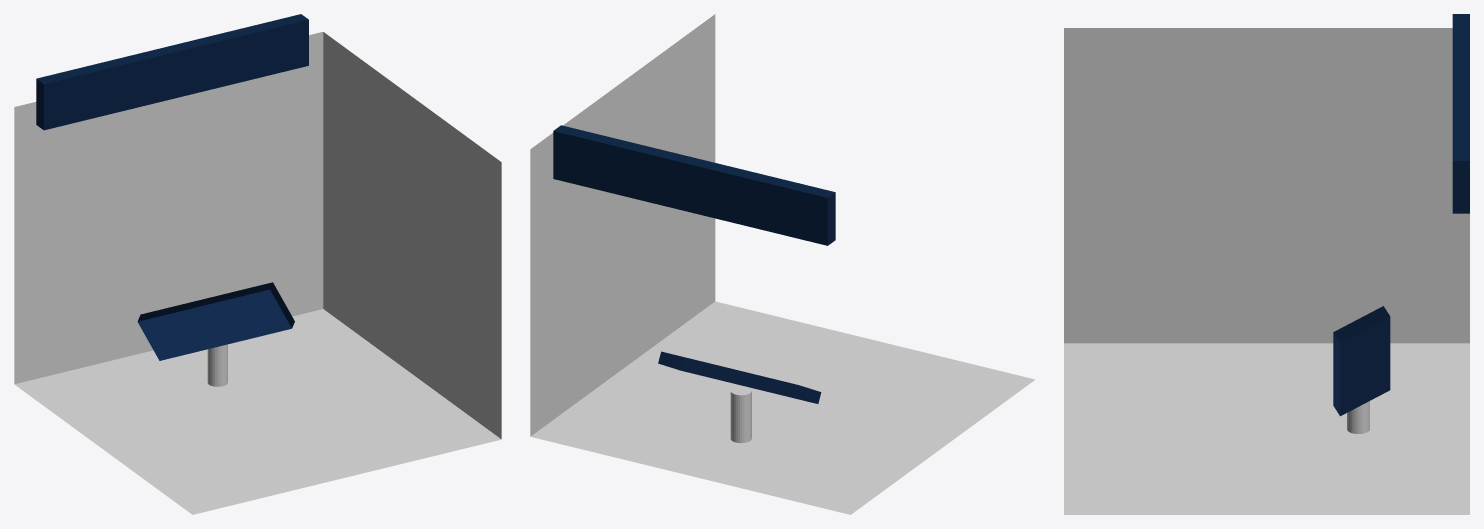
The model's file is model_main_old.glb.
The picture shows the model from 3 angles, left to right: view 1: azimuth 30°, elevation 25°; view 2: azimuth 150°, elevation 25°; view 3: azimuth 270°, elevation 25°; orthographic projection. The views are drawn at different scales.
Parts seen in each view (by area): view 1: front_wall, floor, right_wall, Cube, console, console_pod; view 2: floor, right_wall, Cube, console, console_pod; view 3: left_wall, floor, console, Cube, console_pod.
Boxes of the visible parts, <box> form: front_wall: <box>14,32,323,384</box>; floor: <box>14,309,501,514</box>; right_wall: <box>323,32,501,438</box>; Cube: <box>36,14,308,130</box>; console: <box>137,282,294,360</box>; console_pod: <box>207,344,227,386</box>; floor: <box>530,301,1035,514</box>; right_wall: <box>530,14,715,436</box>; Cube: <box>553,125,835,245</box>; console: <box>658,351,821,403</box>; console_pod: <box>730,386,751,443</box>; left_wall: <box>1064,28,1469,343</box>; floor: <box>1064,343,1469,514</box>; console: <box>1333,306,1390,416</box>; Cube: <box>1452,14,1469,213</box>; console_pod: <box>1347,401,1369,433</box>.
Size of the model in its own units: 14 by 13 by 14.
